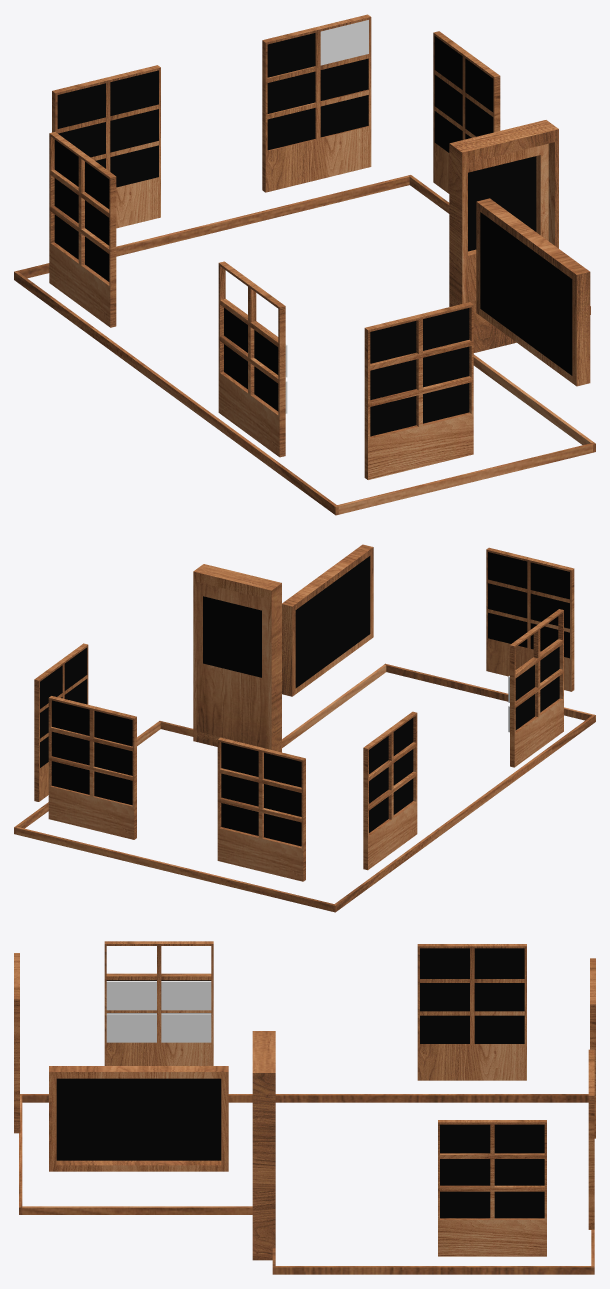
The picture shows the model from 3 angles, top to bottom: view 1: azimuth 30°, elevation 25°; view 2: azimuth 150°, elevation 25°; view 3: azimuth 270°, elevation 25°; orthographic projection. The views are drawn at different scales.
Parts seen in each view (by area): view 1: Object_52, Object_34, Object_45, Object_25, Object_26, Object_8, Object_38, Object_35, Object_20, Object_36, Object_37, Object_1 (+32 smaller); view 2: Object_52, Object_37, Object_34, Object_20, Object_25, Object_38, Object_26, Object_8, Object_36, Object_45, Object_35, Object_1 (+24 smaller); view 3: Object_34, Object_52, Object_1, Object_8, Object_35, Object_38, Object_26, Object_14, Object_11, Object_46, Object_49, Object_48 (+14 smaller).
Boxes of the visible parts, box(x1,y1,x2,y2) form: Object_52: box(14, 175, 595, 515); Object_34: box(480, 212, 572, 375); Object_45: box(364, 302, 473, 479); Object_25: box(262, 14, 371, 192); Object_26: box(218, 261, 285, 457); Object_8: box(49, 132, 116, 327); Object_38: box(449, 120, 558, 306); Object_35: box(476, 198, 590, 386); Object_20: box(52, 65, 160, 228); Object_36: box(468, 156, 536, 251); Object_37: box(466, 143, 548, 352); Object_1: box(433, 31, 500, 193); Object_52: box(14, 663, 595, 912); Object_37: box(196, 582, 268, 748); Object_34: box(295, 556, 370, 688); Object_20: box(217, 737, 305, 881); Object_25: box(48, 696, 136, 839); Object_38: box(193, 564, 281, 752); Object_26: box(510, 609, 563, 767); Object_8: box(363, 711, 417, 870); Object_36: box(203, 596, 261, 677); Object_45: box(486, 547, 574, 691); Object_35: box(282, 544, 373, 696); Object_1: box(34, 643, 88, 801); Object_34: box(56, 1078, 221, 1160); Object_52: box(19, 1094, 594, 1274); Object_1: box(438, 1120, 546, 1256); Object_8: box(417, 944, 526, 1080); Object_35: box(49, 1066, 228, 1171); Object_38: box(252, 1031, 275, 1260); Object_26: box(104, 941, 213, 1065); Object_14: box(474, 948, 524, 978); Object_11: box(420, 948, 469, 978); Object_46: box(161, 1013, 211, 1042); Object_49: box(106, 1013, 156, 1042); Object_48: box(161, 981, 211, 1010).
Bounding box in the file's own units: 558 × 275 × 773.
3 materials, 1 textured.
